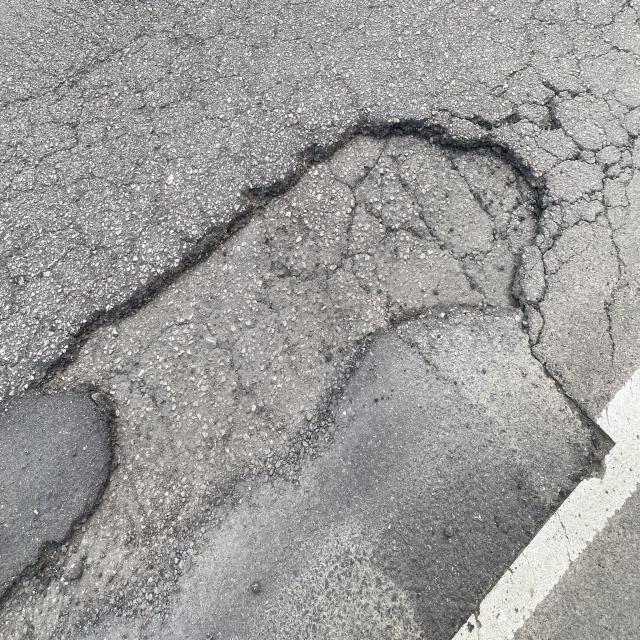Pothole: (31, 63, 608, 495)
